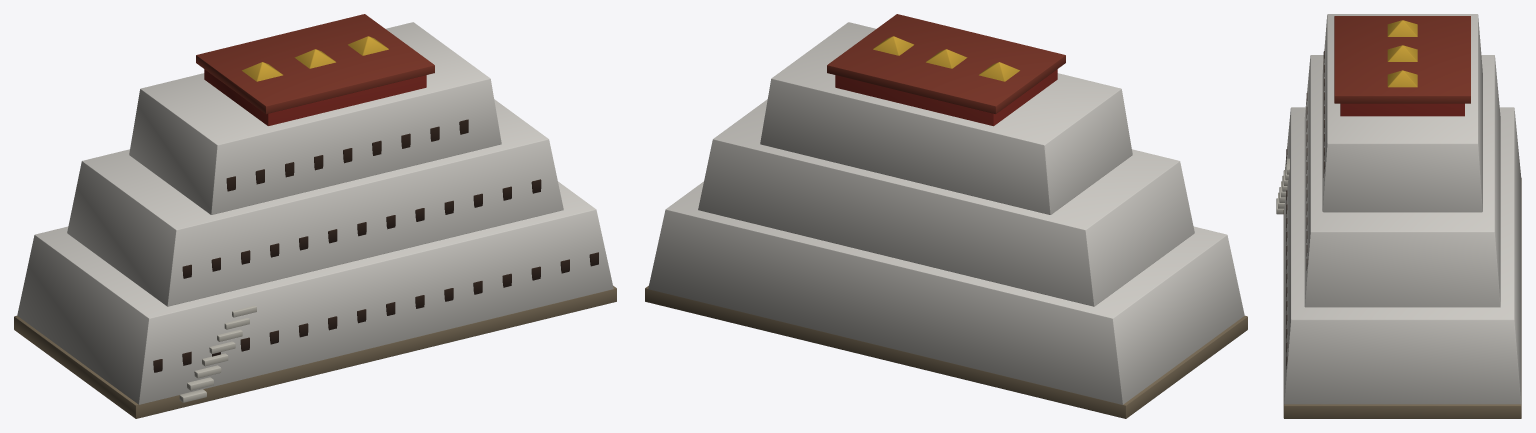
The model's file is lm-potala.glb.
The picture shows the model from 3 angles, left to right: view 1: azimuth 30°, elevation 25°; view 2: azimuth 150°, elevation 25°; view 3: azimuth 270°, elevation 25°; orthographic projection. The views are drawn at different scales.
Bounding box in the file's own units: 18.2 × 9.63 × 8.25.
